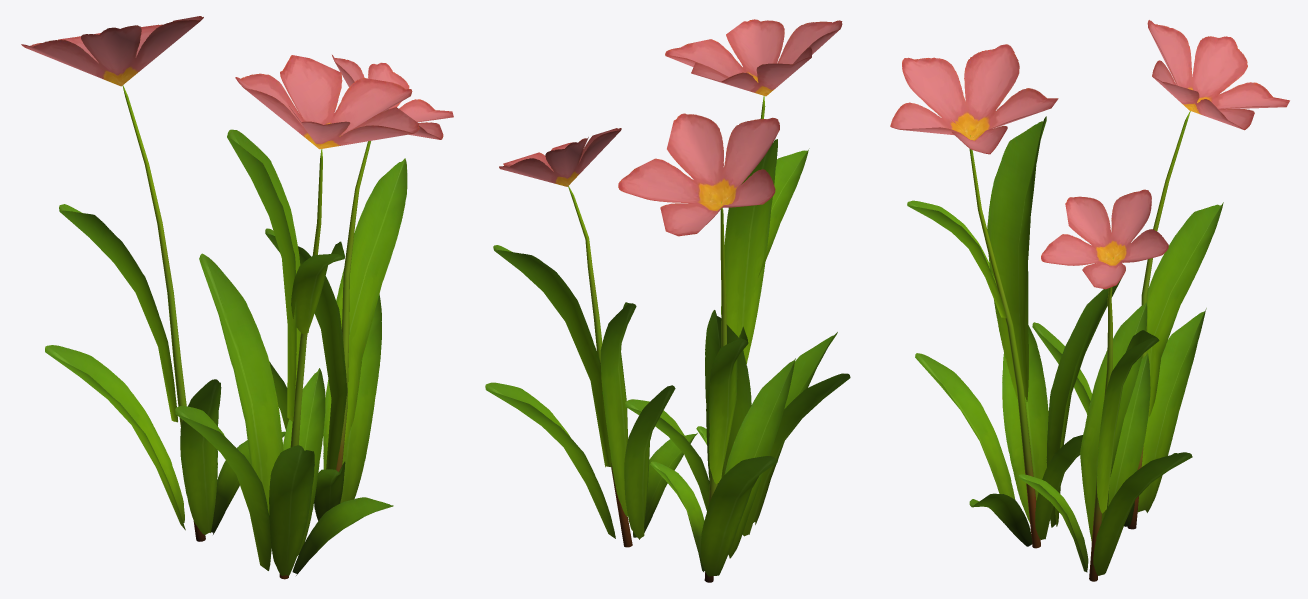
Rendered from Flower_3_Group.glb.
The picture shows the model from 3 angles, left to right: view 1: azimuth 30°, elevation 25°; view 2: azimuth 150°, elevation 25°; view 3: azimuth 270°, elevation 25°; orthographic projection. The views are drawn at different scales.
Parts seen in each view (by area): view 1: Flower_3_Group; view 2: Flower_3_Group; view 3: Flower_3_Group.
Part boxes in pixels (<box>): Flower_3_Group: <box>21,16,453,579</box>; Flower_3_Group: <box>485,19,850,582</box>; Flower_3_Group: <box>890,20,1289,581</box>.
Size of the model in its own units: 1.49 by 2.05 by 1.59.
Materials: 2 (2 with a texture image).
